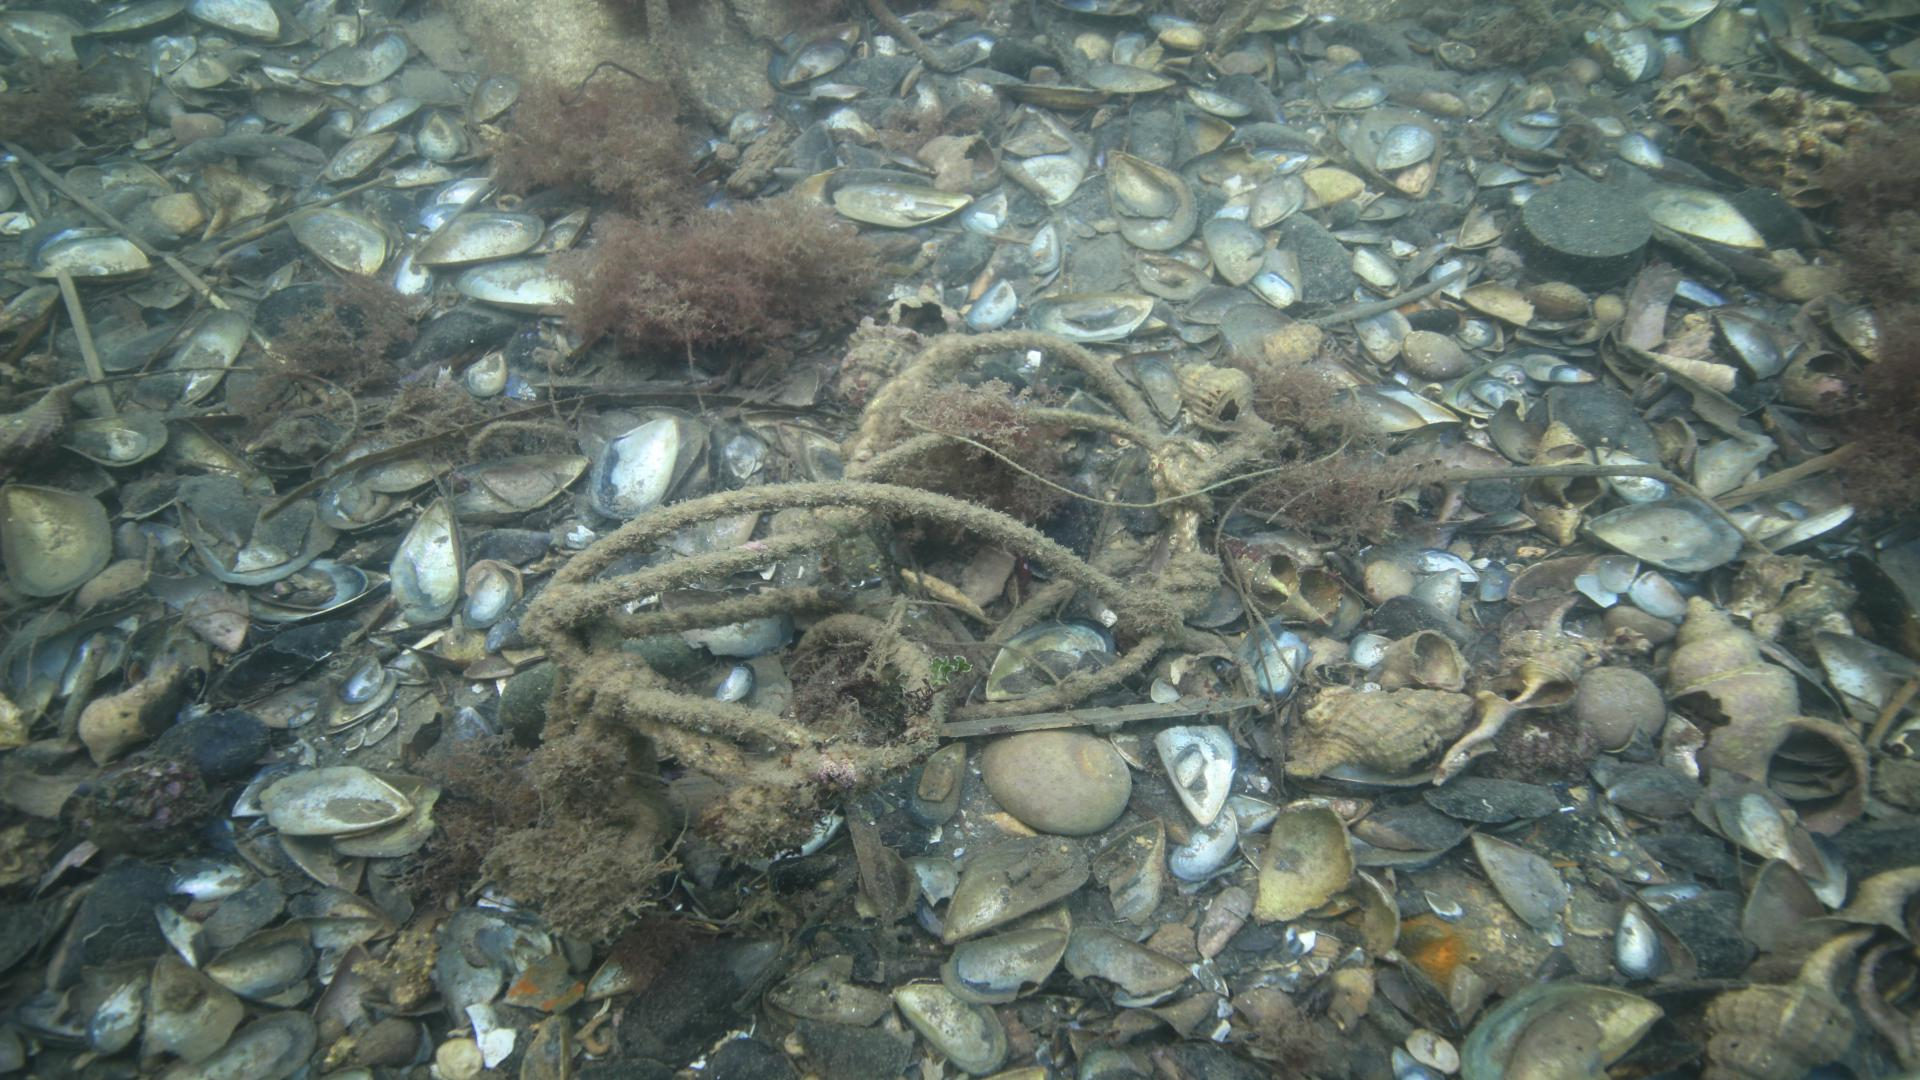bundle of ropes: (516, 327, 1263, 800)
